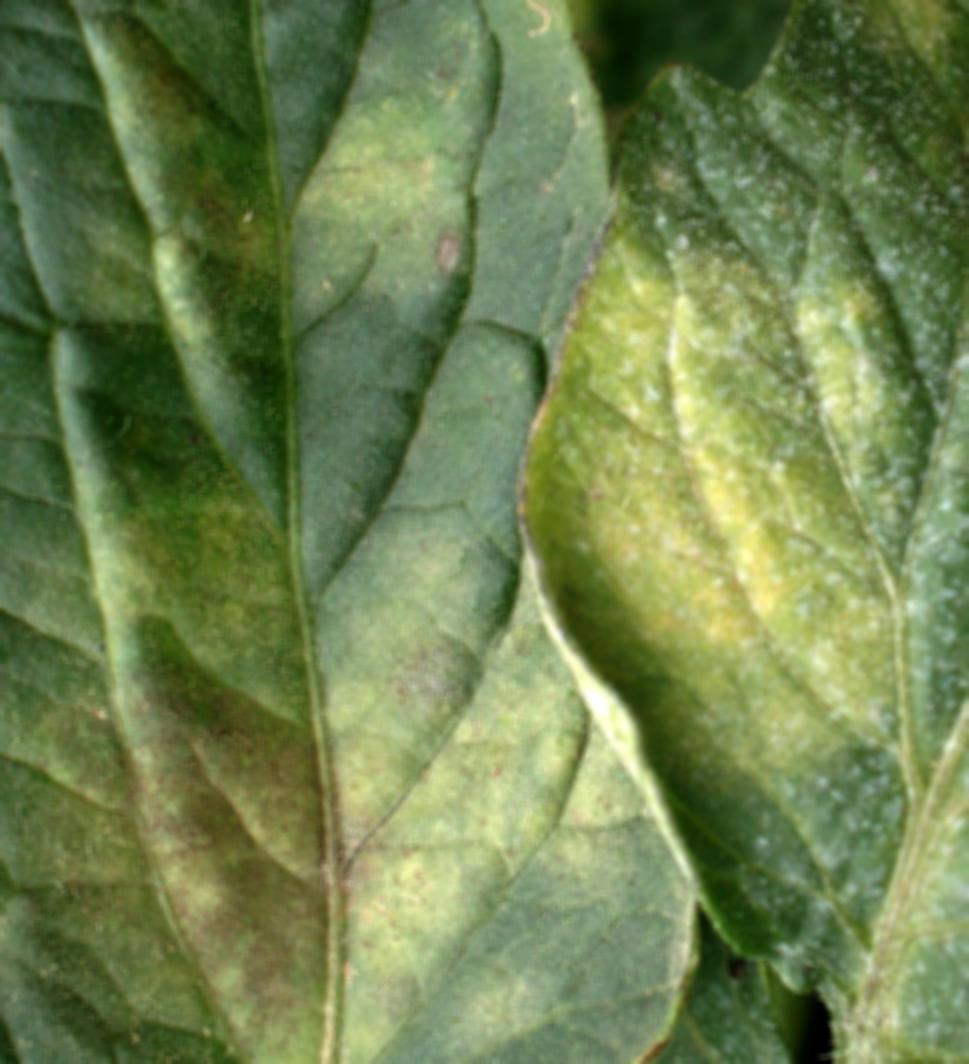Tomato mold leaf: (0, 0, 697, 1064), (526, 0, 969, 1064)
